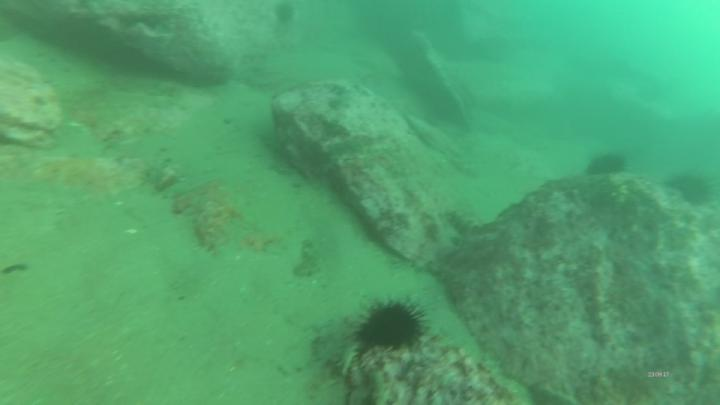echinus: (353, 299, 426, 355), (664, 171, 720, 209), (586, 149, 630, 177)
holothurian: (323, 136, 390, 169)
